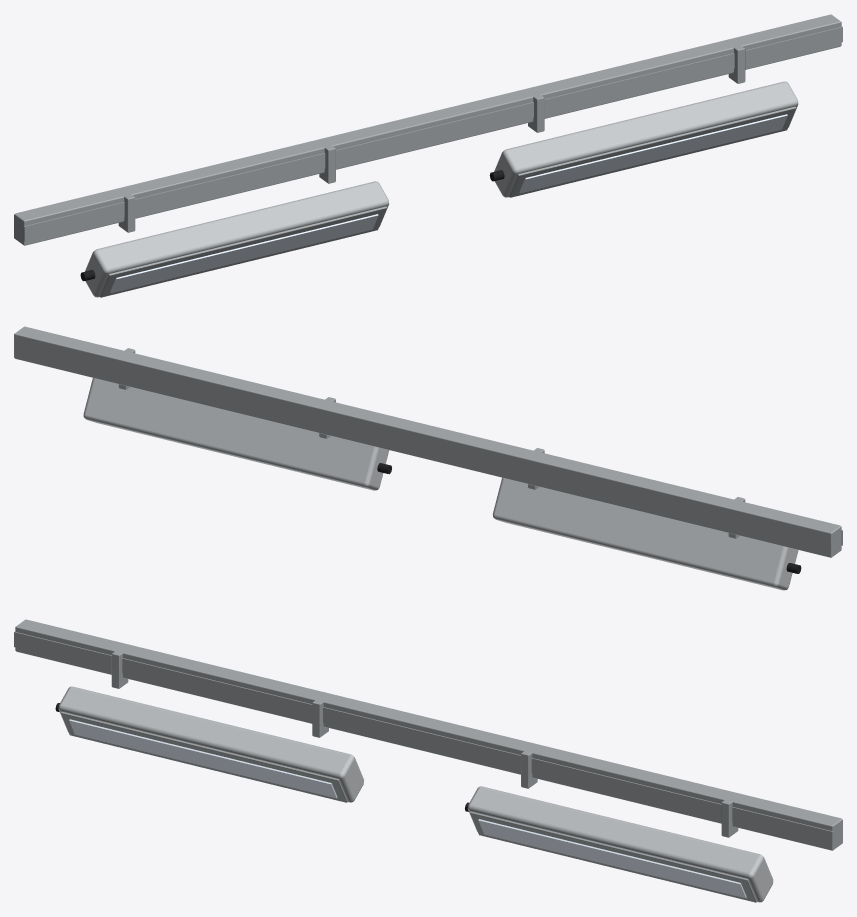
Rendered from tunnel_lamp_strip_4m_led.fbx.
The picture shows the model from 3 angles, top to bottom: view 1: azimuth 30°, elevation 25°; view 2: azimuth 150°, elevation 25°; view 3: azimuth 330°, elevation 25°; orthographic projection.
Visible parts, largest first — view 1: tunnel_lamp_strip_4m_led; view 2: tunnel_lamp_strip_4m_led; view 3: tunnel_lamp_strip_4m_led.
Boxes of the visible parts, bbox=[...] form: tunnel_lamp_strip_4m_led: bbox=[14, 14, 842, 297]; tunnel_lamp_strip_4m_led: bbox=[14, 326, 842, 590]; tunnel_lamp_strip_4m_led: bbox=[14, 619, 842, 902].
Size of the model in its own units: 4 by 0.4036 by 0.2592.
